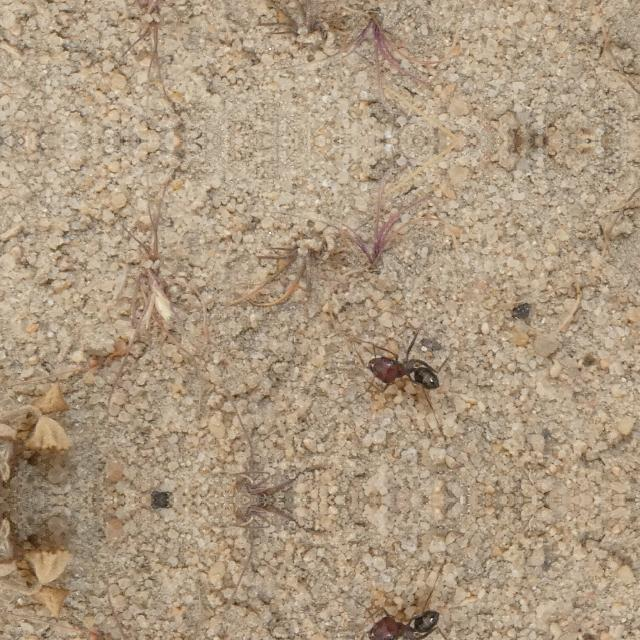Cataglyphis: (356, 346, 452, 394), (356, 604, 452, 640)
